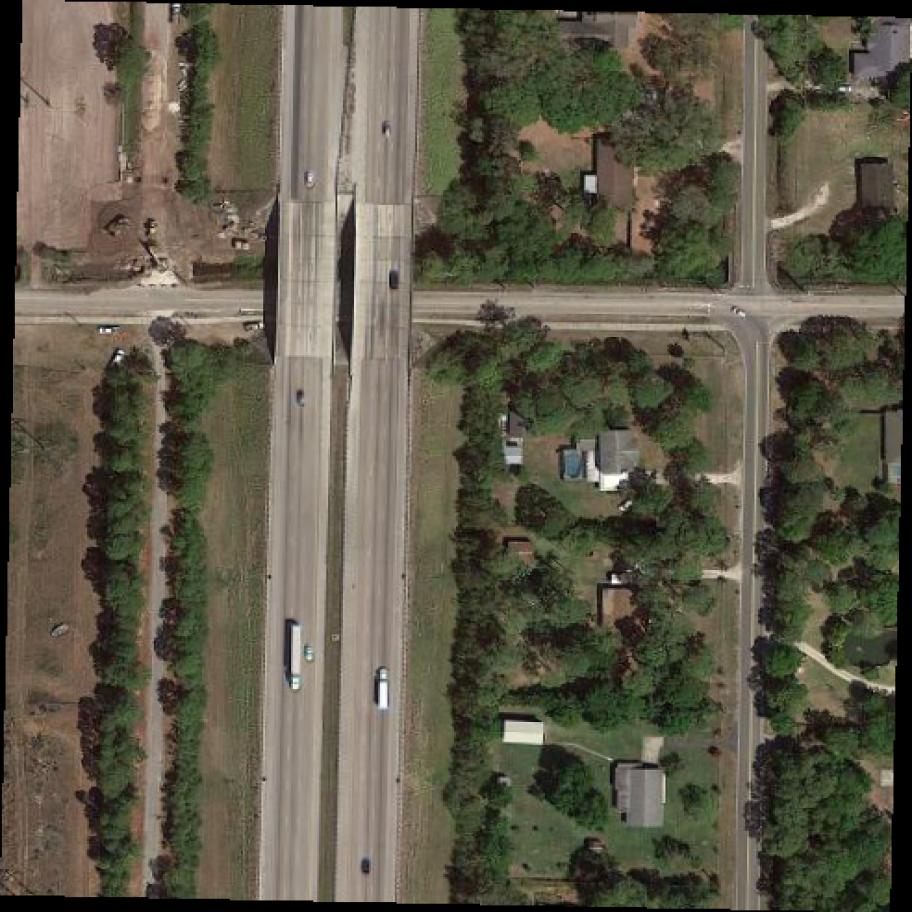large-vehicle: (289, 626, 302, 692), (376, 669, 391, 710)
small-vehicle: (108, 345, 130, 374), (615, 498, 638, 517), (730, 304, 751, 322), (244, 319, 267, 334), (98, 327, 122, 337), (295, 388, 308, 406), (389, 273, 400, 292), (306, 170, 315, 192), (306, 646, 315, 664), (384, 121, 393, 139), (834, 86, 853, 94), (361, 859, 371, 874)
